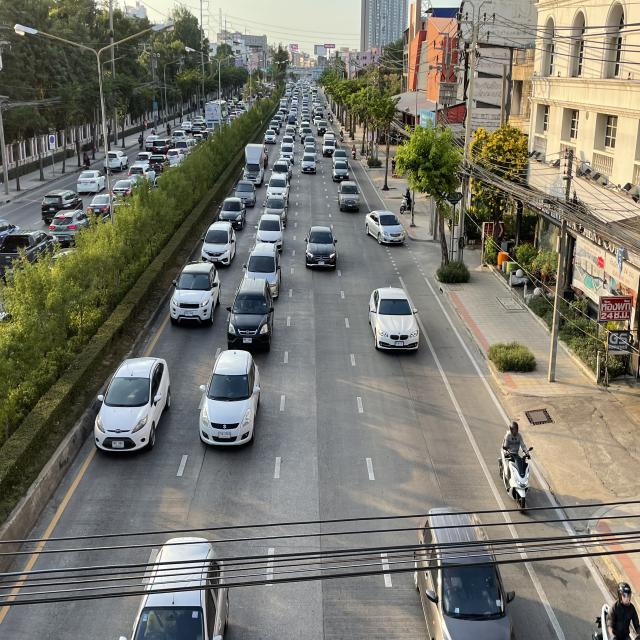bike: (497, 413, 534, 519), (589, 575, 640, 640)
truck: (242, 140, 266, 188)
